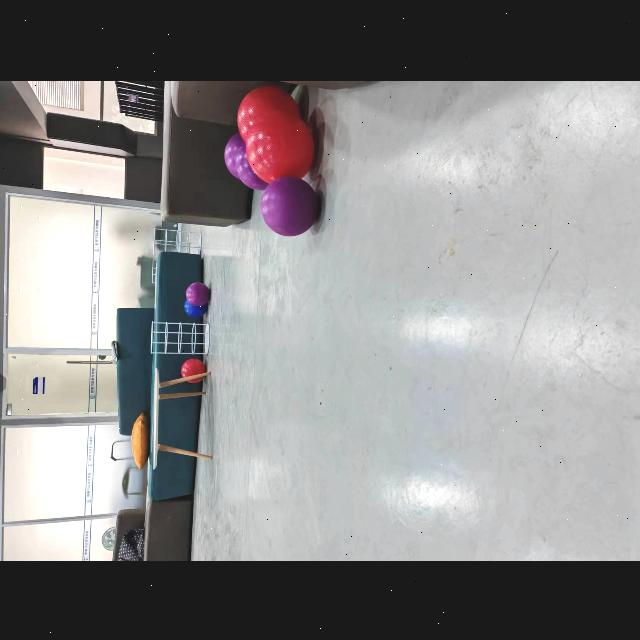B: (185, 298, 208, 316)
P: (260, 175, 319, 235), (235, 144, 268, 189), (223, 132, 244, 178), (186, 281, 211, 305)
R: (238, 86, 314, 182), (246, 113, 314, 182), (180, 358, 206, 382)
S: (151, 320, 210, 353), (153, 227, 201, 254)
